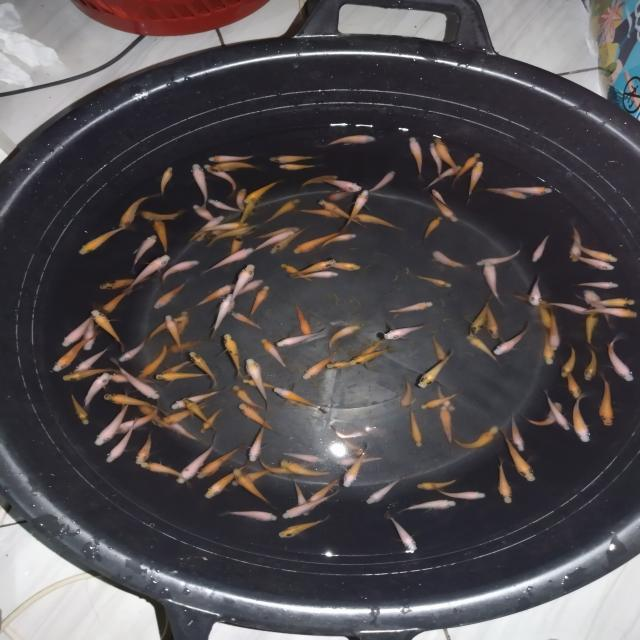nila: (493, 430, 538, 483), (172, 438, 222, 484), (120, 252, 172, 296), (110, 358, 162, 401), (50, 332, 100, 374), (90, 400, 134, 447), (202, 462, 251, 500), (234, 404, 286, 438), (78, 224, 130, 257), (196, 446, 244, 481), (272, 386, 328, 416), (88, 307, 128, 349), (99, 422, 138, 464), (316, 197, 368, 228), (126, 232, 161, 278), (280, 493, 338, 520), (302, 477, 342, 516), (58, 310, 98, 349), (234, 468, 275, 506), (224, 262, 256, 310), (604, 333, 635, 382), (206, 294, 239, 340), (202, 246, 254, 275), (68, 344, 112, 378), (98, 286, 144, 318), (570, 238, 624, 265), (104, 391, 159, 417), (272, 324, 326, 350), (384, 513, 419, 553), (242, 357, 270, 407), (104, 411, 160, 436), (580, 288, 614, 329), (140, 460, 193, 486), (416, 354, 454, 390), (169, 388, 227, 411), (199, 162, 238, 196), (291, 229, 340, 256), (330, 424, 368, 458), (77, 372, 111, 410), (338, 190, 370, 230), (419, 164, 464, 192), (455, 424, 500, 452), (188, 352, 222, 389), (159, 403, 209, 428), (473, 243, 523, 268), (544, 389, 573, 432), (152, 279, 192, 310), (342, 446, 370, 490), (491, 326, 532, 356), (362, 477, 403, 507), (121, 194, 157, 228), (464, 334, 500, 368), (323, 323, 362, 354), (520, 400, 563, 428), (566, 249, 618, 272), (424, 192, 460, 225), (452, 151, 482, 190), (257, 338, 291, 372), (230, 464, 278, 488), (136, 344, 168, 380), (300, 350, 336, 382), (354, 334, 390, 366), (482, 262, 507, 308), (194, 280, 234, 308), (502, 413, 530, 453), (278, 518, 328, 540), (158, 356, 200, 382), (186, 400, 218, 434), (188, 214, 224, 244), (268, 227, 308, 254), (383, 320, 432, 342), (434, 138, 461, 177), (224, 308, 264, 334), (140, 403, 177, 431), (492, 459, 514, 506), (318, 132, 378, 149), (245, 418, 268, 462), (220, 332, 243, 376), (158, 260, 200, 284), (207, 224, 263, 242), (348, 344, 393, 366), (557, 363, 582, 402), (230, 384, 266, 411), (428, 248, 472, 270), (466, 160, 488, 204), (60, 364, 120, 380), (268, 196, 300, 226), (356, 212, 404, 232), (397, 498, 457, 514), (565, 218, 585, 266), (572, 394, 591, 444), (282, 458, 334, 476), (147, 314, 182, 340), (293, 258, 338, 278), (598, 378, 616, 428), (95, 274, 151, 290), (80, 309, 100, 353), (189, 163, 209, 207), (254, 232, 294, 254), (204, 198, 248, 218), (296, 171, 340, 191), (480, 298, 500, 342), (418, 391, 462, 411), (364, 170, 400, 194), (224, 231, 244, 274), (68, 392, 93, 426), (217, 508, 277, 522), (470, 296, 490, 338), (246, 286, 272, 318), (233, 186, 256, 222), (390, 299, 436, 317), (150, 216, 170, 257), (225, 278, 266, 298), (292, 302, 316, 336), (317, 176, 365, 193), (108, 372, 166, 386), (248, 179, 278, 206), (134, 429, 154, 469), (116, 338, 148, 363), (136, 208, 186, 224), (291, 478, 312, 516), (203, 160, 264, 173), (278, 262, 314, 284), (538, 324, 556, 368), (257, 459, 309, 474), (436, 405, 454, 448), (426, 488, 490, 500), (266, 150, 320, 164), (411, 272, 453, 290), (528, 232, 550, 266), (163, 314, 183, 351), (570, 296, 637, 307), (254, 224, 300, 240), (484, 186, 530, 202), (198, 406, 224, 434), (167, 420, 200, 442), (559, 343, 578, 380), (296, 207, 346, 221), (430, 334, 451, 367), (544, 300, 587, 316), (316, 258, 365, 272), (154, 370, 211, 382), (170, 308, 189, 344), (406, 412, 424, 449), (435, 384, 457, 414), (584, 308, 639, 320), (330, 456, 389, 467), (320, 232, 360, 248), (583, 310, 599, 350), (157, 341, 199, 356), (396, 376, 414, 411), (413, 478, 458, 492), (408, 136, 422, 180), (548, 308, 562, 351), (202, 220, 252, 232), (158, 165, 175, 199), (280, 451, 324, 464), (321, 188, 356, 204), (509, 293, 549, 307), (324, 360, 370, 372), (536, 297, 552, 331), (568, 278, 622, 288), (236, 200, 258, 224), (428, 142, 443, 176), (188, 201, 218, 217), (494, 186, 554, 194), (423, 216, 442, 240), (584, 345, 596, 383), (204, 154, 260, 162), (241, 378, 278, 390), (529, 273, 541, 309), (290, 270, 342, 278), (210, 222, 233, 240), (430, 186, 450, 205), (195, 221, 212, 243), (270, 163, 322, 169)
